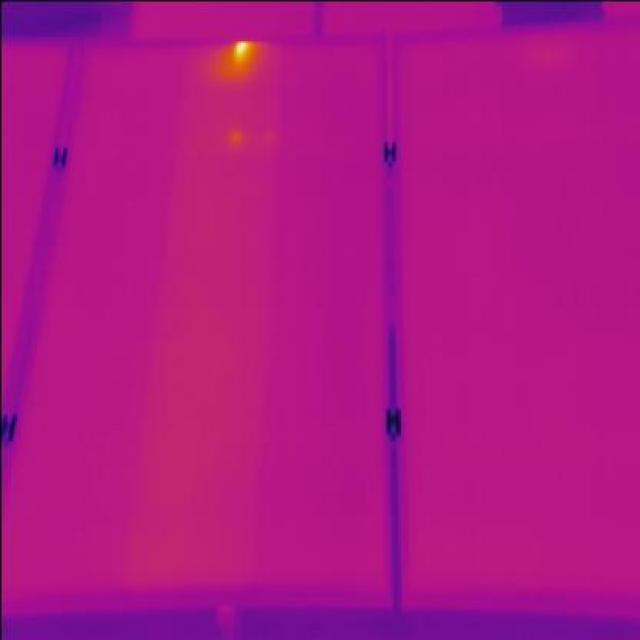hotspot: (218, 34, 258, 77)
